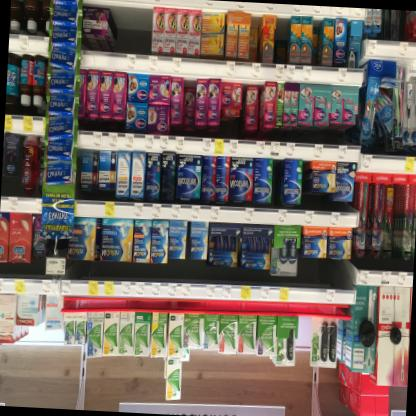empty_space: (108, 2, 138, 53), (295, 316, 312, 372), (136, 5, 153, 54)
